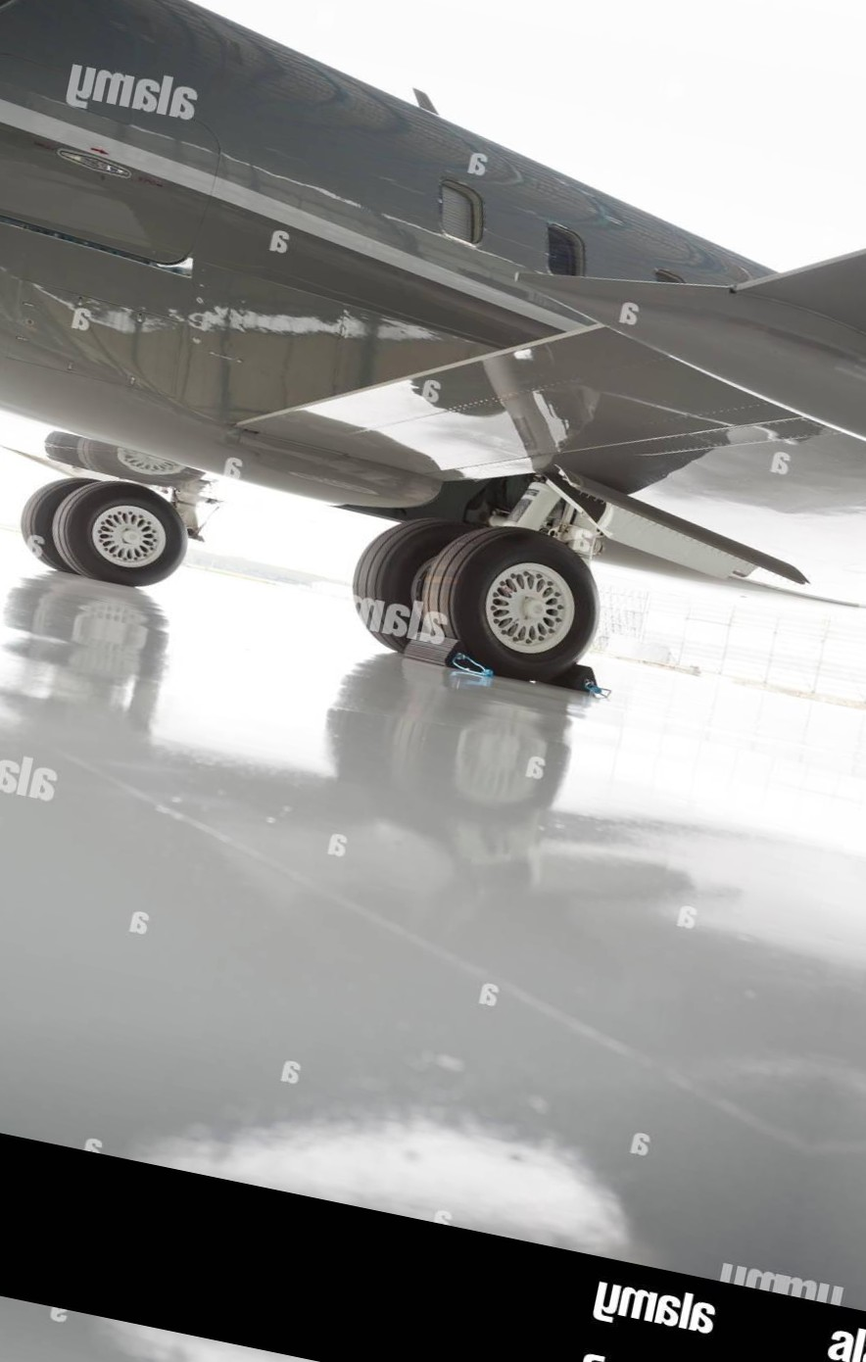chock: (393, 624, 494, 682), (523, 647, 611, 697)
wheel: (418, 512, 617, 691), (18, 463, 199, 596), (343, 506, 485, 664), (14, 466, 113, 574)
